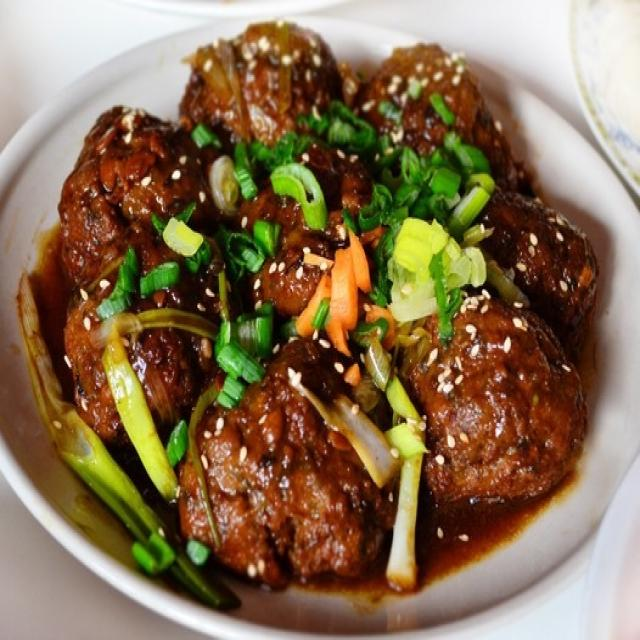meatball: (180, 342, 388, 592), (402, 274, 594, 514), (49, 89, 226, 292)
